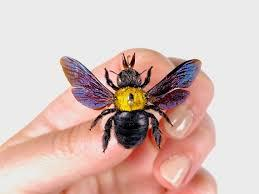Xylocopa: (58, 41, 203, 155)
